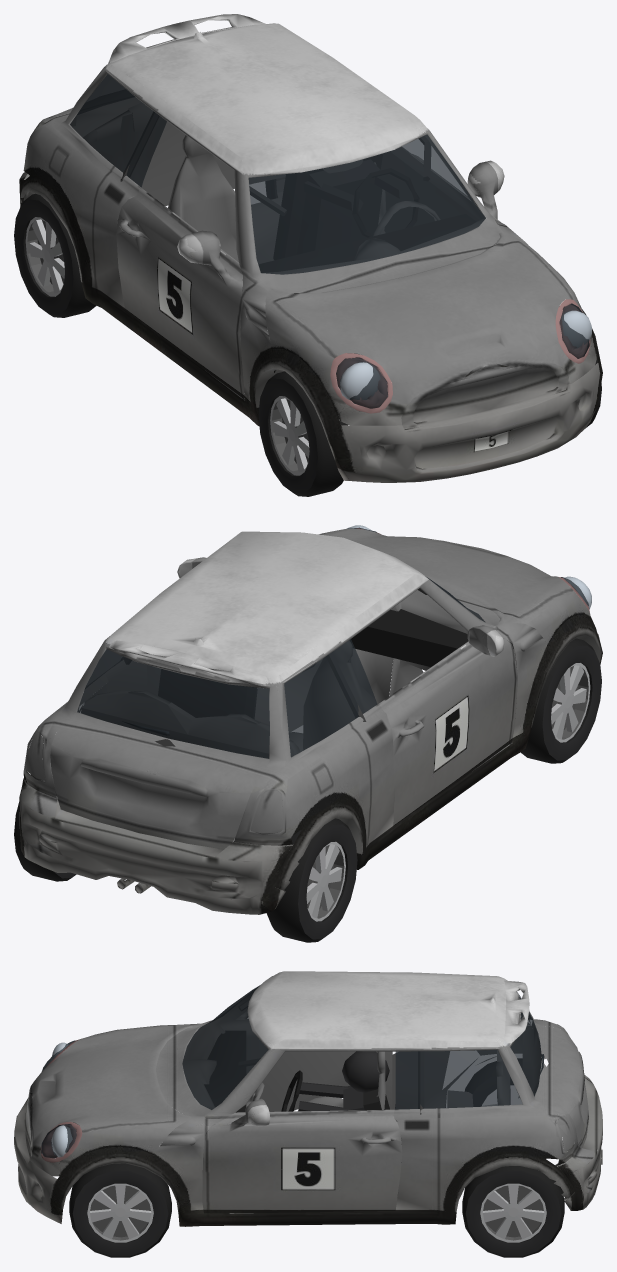
3 renders of one model, top to bottom at view 1: azimuth 30°, elevation 25°; view 2: azimuth 150°, elevation 25°; view 3: azimuth 270°, elevation 25°, orthographic. The views are drawn at different scales.
Parts seen in each view (by area): view 1: body, wheel_fr, wheel_rr; view 2: body, wheel_rr, wheel_fr, wheel_rl; view 3: body, wheel_fl, wheel_rl, wheel_rr.
Part boxes in pixels (x1,y1,x2,y2): body: (19, 14, 602, 482); wheel_fr: (258, 371, 348, 496); wheel_rr: (14, 193, 96, 317); body: (19, 525, 602, 914); wheel_rr: (266, 818, 357, 942); wheel_fr: (521, 638, 601, 763); wheel_rl: (14, 774, 76, 881); body: (14, 971, 602, 1226); wheel_fl: (69, 1163, 171, 1257); wheel_rl: (462, 1166, 564, 1257); wheel_rr: (465, 1058, 539, 1106).
Bounding box in the file's own units: 1.87 × 1.43 × 3.7.
Materials: 3 (2 with a texture image).
